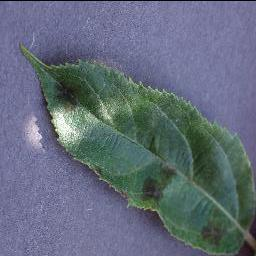Apple_Scab: (40, 64, 100, 120), (197, 210, 243, 253), (142, 160, 176, 206), (99, 178, 138, 212), (237, 191, 255, 229)
